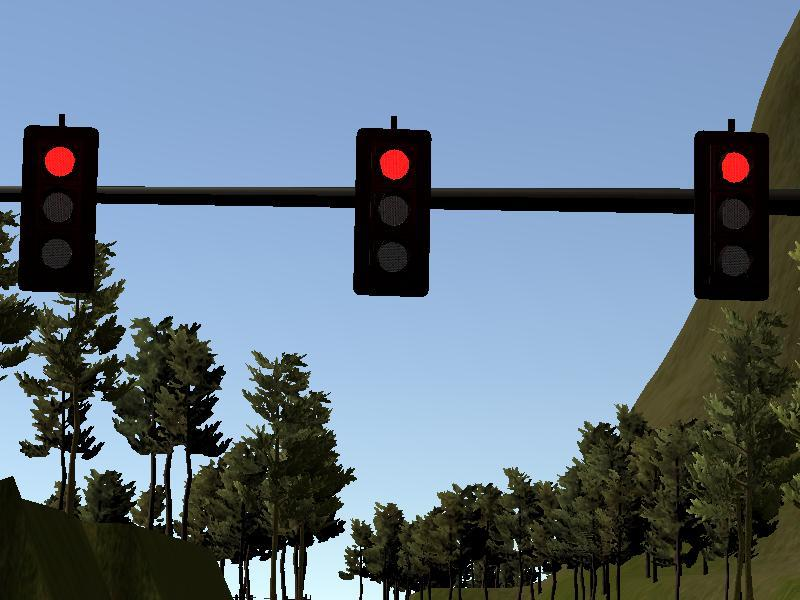Red: (694, 130, 768, 299), (357, 129, 429, 294), (24, 126, 90, 291)
